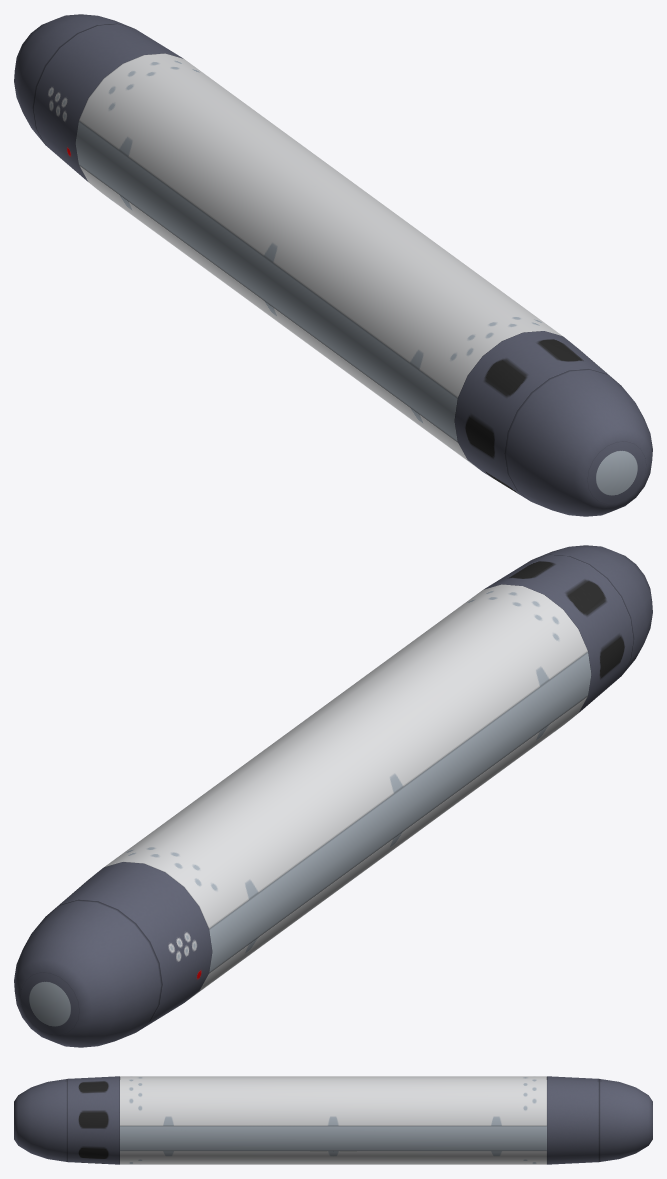
Rendered from Ship_Fuel_Tank_01.FBX.
The picture shows the model from 3 angles, top to bottom: view 1: azimuth 30°, elevation 25°; view 2: azimuth 150°, elevation 25°; view 3: azimuth 270°, elevation 25°; orthographic projection. The views are drawn at different scales.
Visible parts, largest first — view 1: Ship_Fuel_Tank_01; view 2: Ship_Fuel_Tank_01; view 3: Ship_Fuel_Tank_01.
Part boxes in pixels (bbox=[...]): Ship_Fuel_Tank_01: bbox=[14, 14, 652, 516]; Ship_Fuel_Tank_01: bbox=[14, 545, 652, 1047]; Ship_Fuel_Tank_01: bbox=[14, 1076, 652, 1164].
Size of the model in its own units: 0.7905 by 0.7905 by 5.67.
2 materials, 2 textured.
